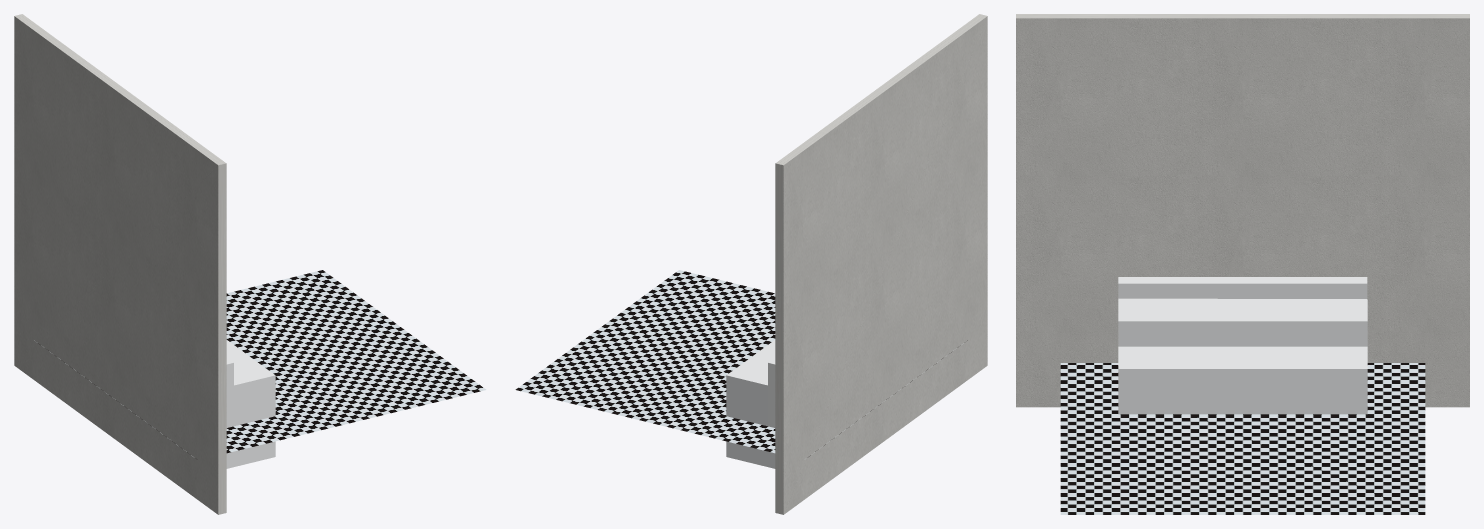
Rendered from Flooring.fbx.
3 views of the same model, side by side, from view 1: azimuth 30°, elevation 25°; view 2: azimuth 150°, elevation 25°; view 3: azimuth 270°, elevation 25° (orthographic). The views are drawn at different scales.
Parts seen in each view (by area): view 1: pCube6, pPlane2, pCube8; view 2: pCube6, pPlane2, pCube8; view 3: pCube6, pPlane2, pCube8.
Part boxes in pixels (x1=…): pCube6: x1=14, y1=14, x2=226, y2=514; pPlane2: x1=34, y1=270, x2=486, y2=456; pCube8: x1=226, y1=340, x2=275, y2=468; pCube6: x1=775, y1=14, x2=987, y2=514; pPlane2: x1=515, y1=270, x2=967, y2=456; pCube8: x1=726, y1=340, x2=775, y2=468; pCube6: x1=1016, y1=14, x2=1469, y2=407; pPlane2: x1=1060, y1=363, x2=1425, y2=514; pCube8: x1=1118, y1=277, x2=1367, y2=414.
Size of the model in its own units: 32.72 by 37.97 by 40.07.
Materials: 3 (2 with a texture image).
